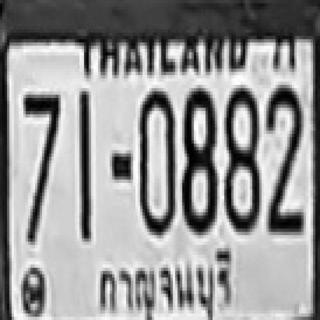N00: (138, 88, 173, 232)
N02: (264, 83, 301, 217)
N07: (21, 93, 58, 237), (21, 91, 58, 219), (21, 91, 58, 193)
N08: (180, 85, 215, 232), (222, 85, 257, 229)
P17: (92, 248, 234, 318)
